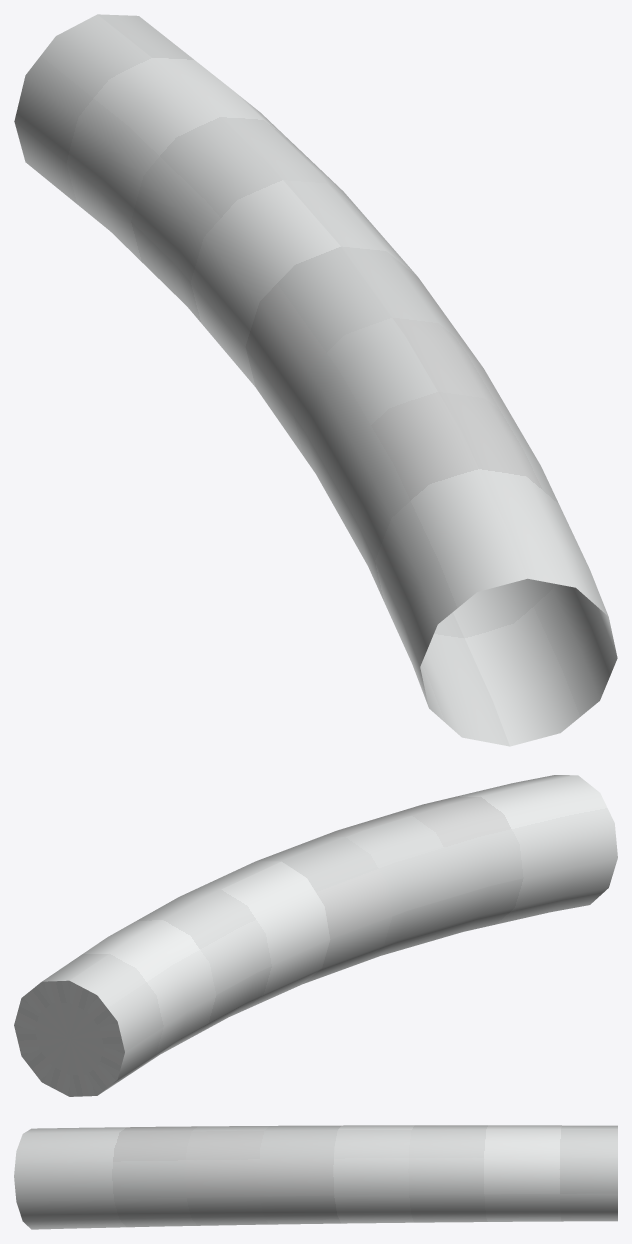
Rendered from luminairearm_vannuystriple_c17.obj.
3 renders of one model, top to bottom at view 1: azimuth 30°, elevation 25°; view 2: azimuth 150°, elevation 25°; view 3: azimuth 270°, elevation 25°, orthographic. The views are drawn at different scales.
Parts seen in each view (by area): view 1: luminairearm_vannuystriple_c17; view 2: luminairearm_vannuystriple_c17; view 3: luminairearm_vannuystriple_c17.
Boxes of the visible parts, <box> form: luminairearm_vannuystriple_c17: <box>14,14,617,746</box>; luminairearm_vannuystriple_c17: <box>14,775,617,1096</box>; luminairearm_vannuystriple_c17: <box>14,1125,617,1229</box>.
Bounding box in the file's own units: 0.3244 × 0.2517 × 1.02.
